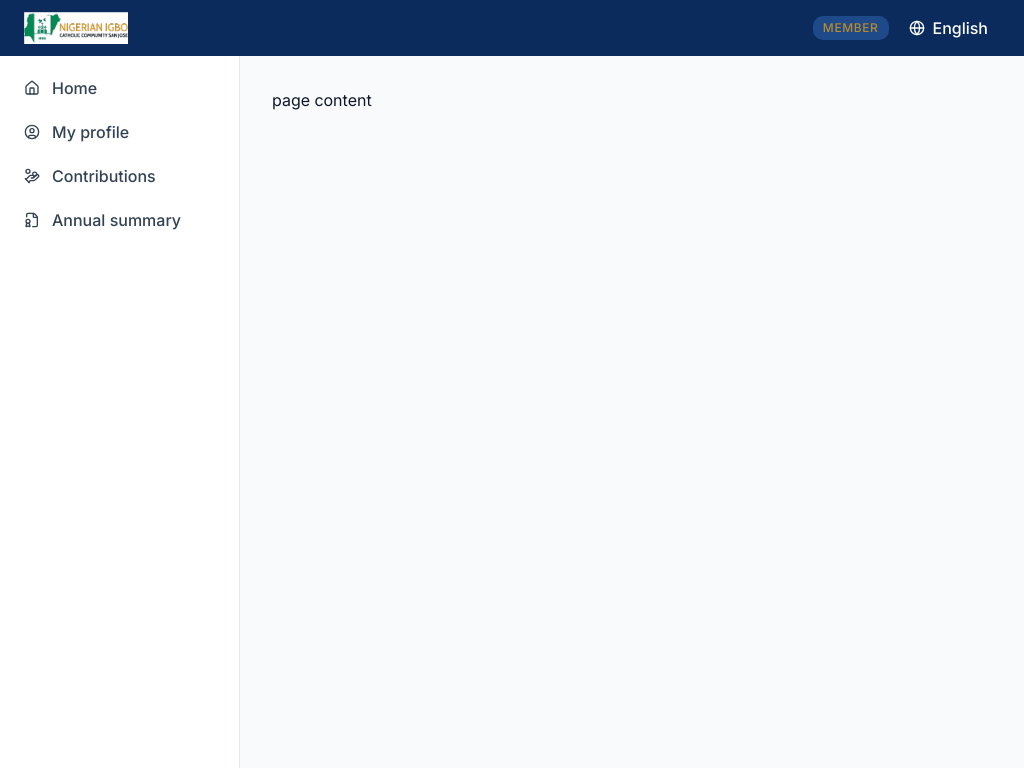
it: AppShell › toggles the language selector label between English and Igbo
Step 1. Click the button with aria-label "language: english" → (948, 28), box [896,10,1000,46]
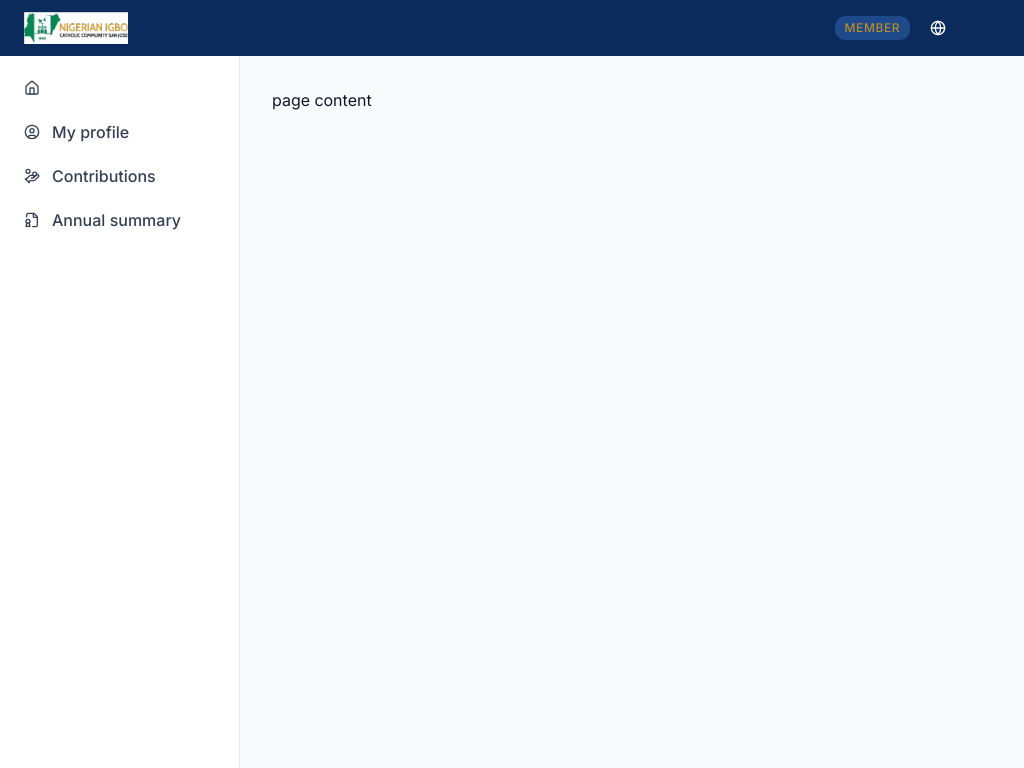
Check: the button with aria-label "language: igbo" reads "Igbo", box [918,10,1000,46]
